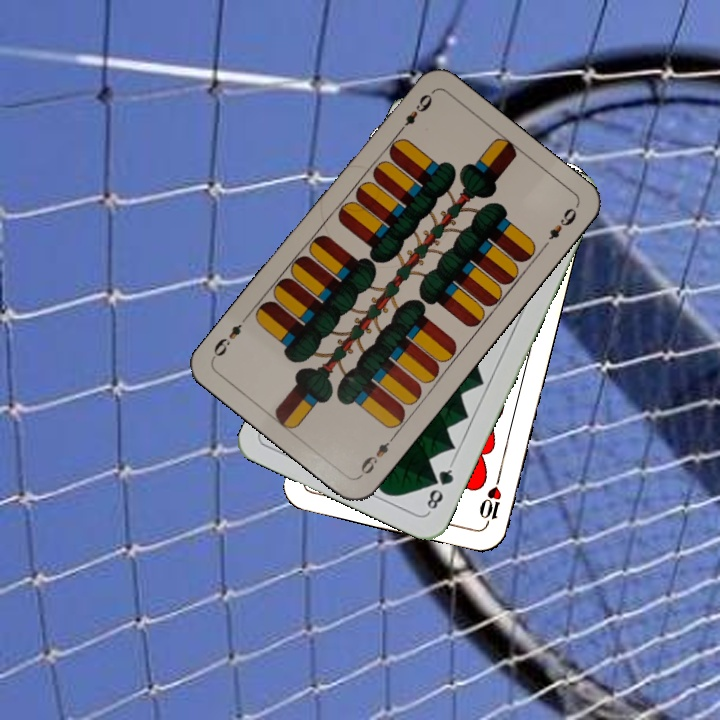E9: (355, 430, 399, 480), (393, 89, 435, 138)
G8: (422, 459, 456, 515)
H10: (475, 470, 505, 528)
